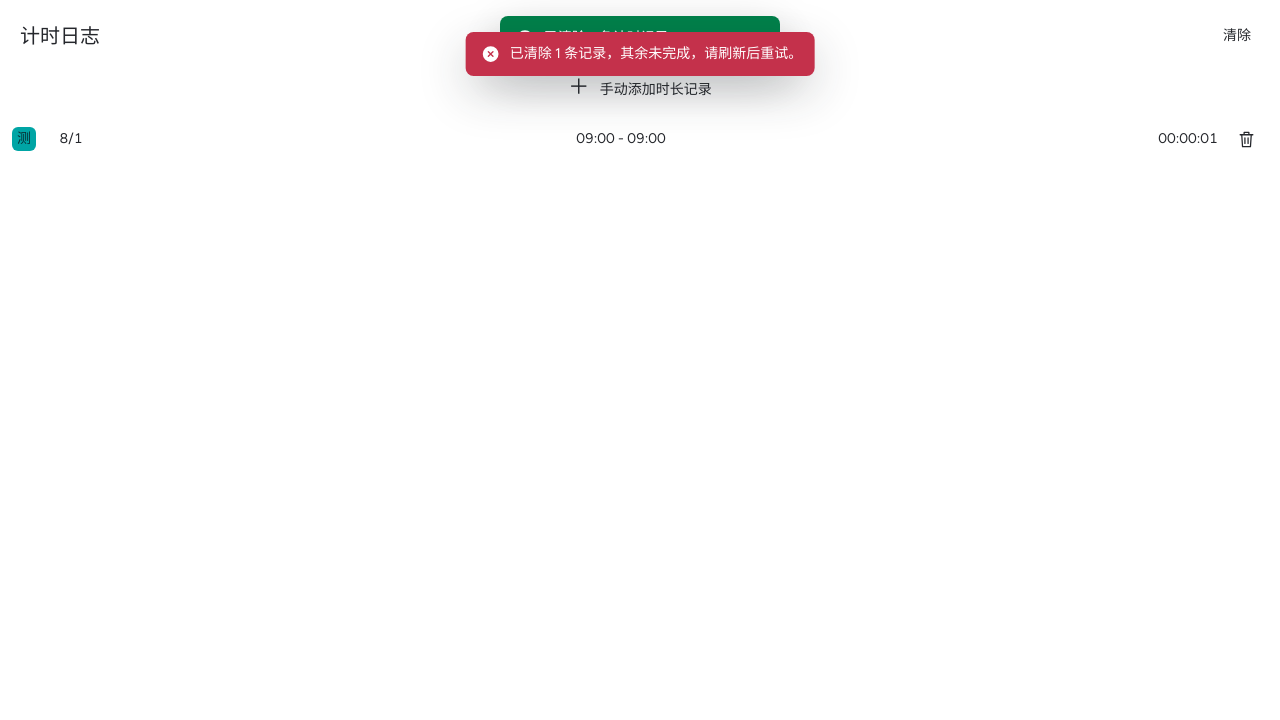
Test case: 计时日志分页与写入 › 清除遍历未加载分页，只删除有编辑权限的已停止记录
What coordinates should you click on to do the following:
click the button "清除"
I would click on:
 (1237, 36)
Its box is [1214, 18, 1260, 54].
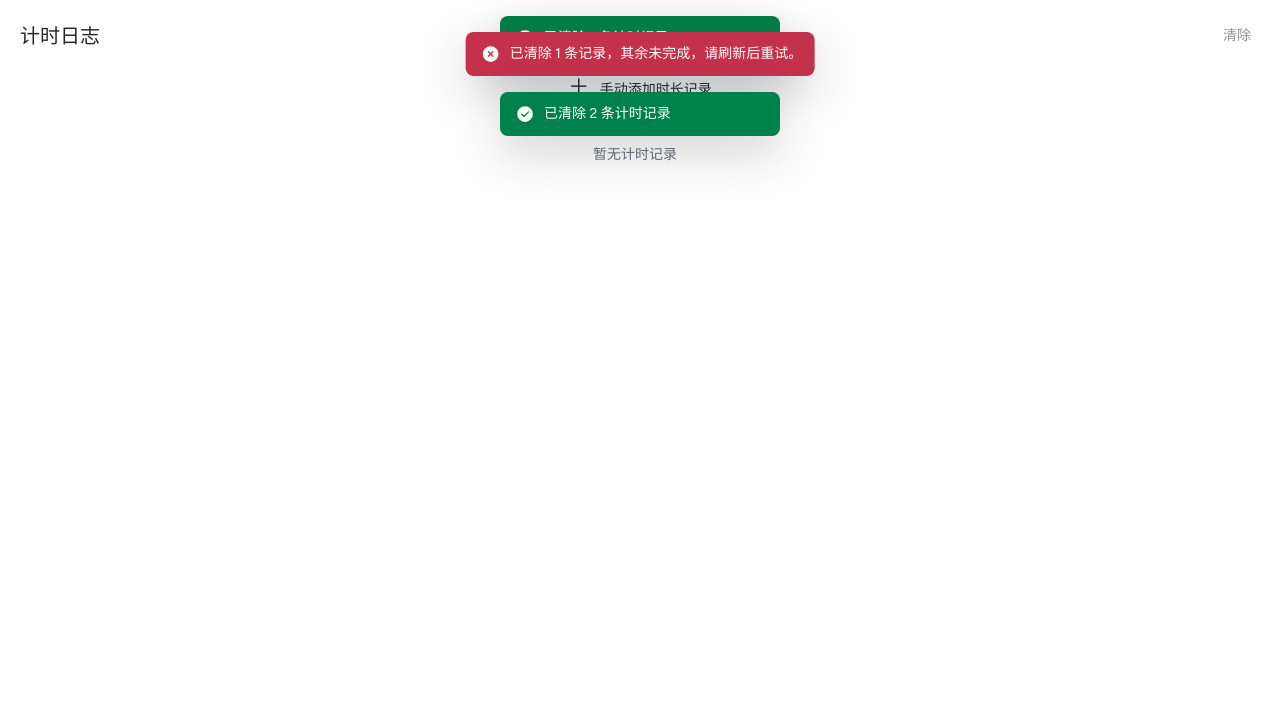
Check: the text "暂无计时记录" is shown, box [593, 146, 677, 163]
